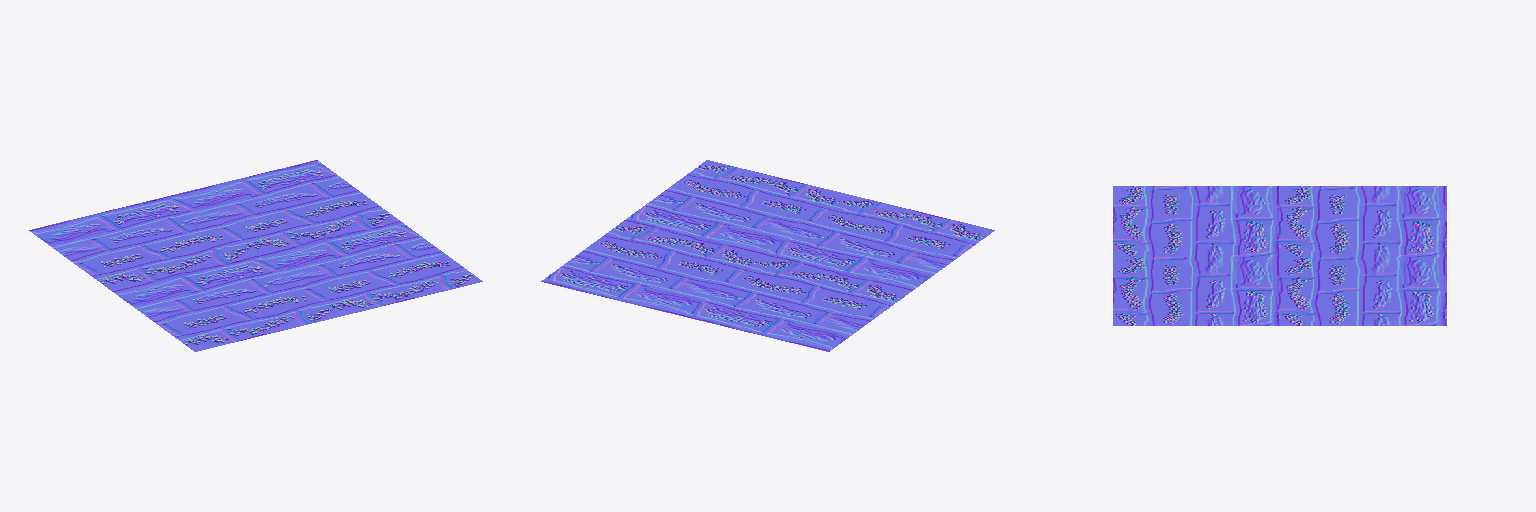
The picture shows the model from 3 angles: view 1: azimuth 30°, elevation 25°; view 2: azimuth 150°, elevation 25°; view 3: azimuth 270°, elevation 25°; orthographic projection.
Visible parts, largest first — view 1: Plane; view 2: Plane; view 3: Plane.
Part boxes in pixels (x1,y1,x2,y2): Plane: (29, 160, 482, 351); Plane: (541, 160, 994, 351); Plane: (1113, 186, 1446, 325).
Bounding box in the file's own units: 2 × 0 × 2.
1 materials, 1 textured.